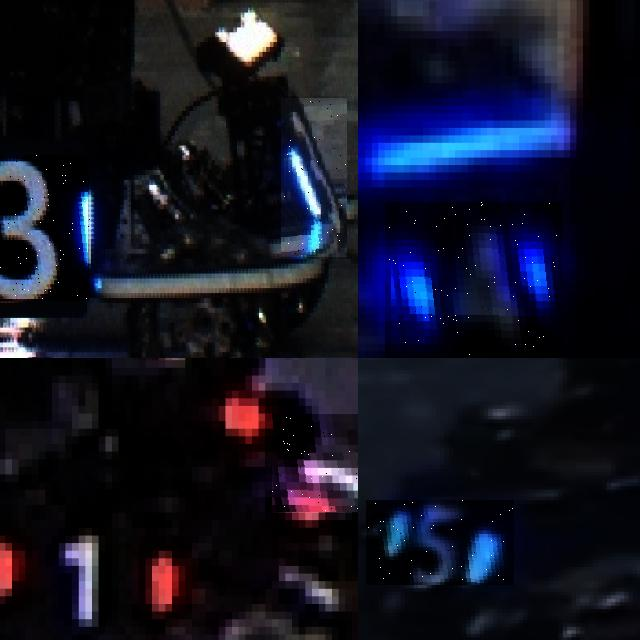B3: (0, 155, 90, 300), (281, 99, 347, 258)
B4: (384, 202, 563, 358)
B5: (366, 500, 514, 585)
R1: (0, 520, 192, 626), (265, 413, 358, 512)
